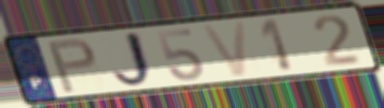1: (259, 16, 294, 75)
2: (312, 13, 361, 67)
5: (153, 26, 207, 82)
J: (110, 29, 159, 90)
P: (44, 36, 99, 95)
V: (198, 19, 251, 79)
